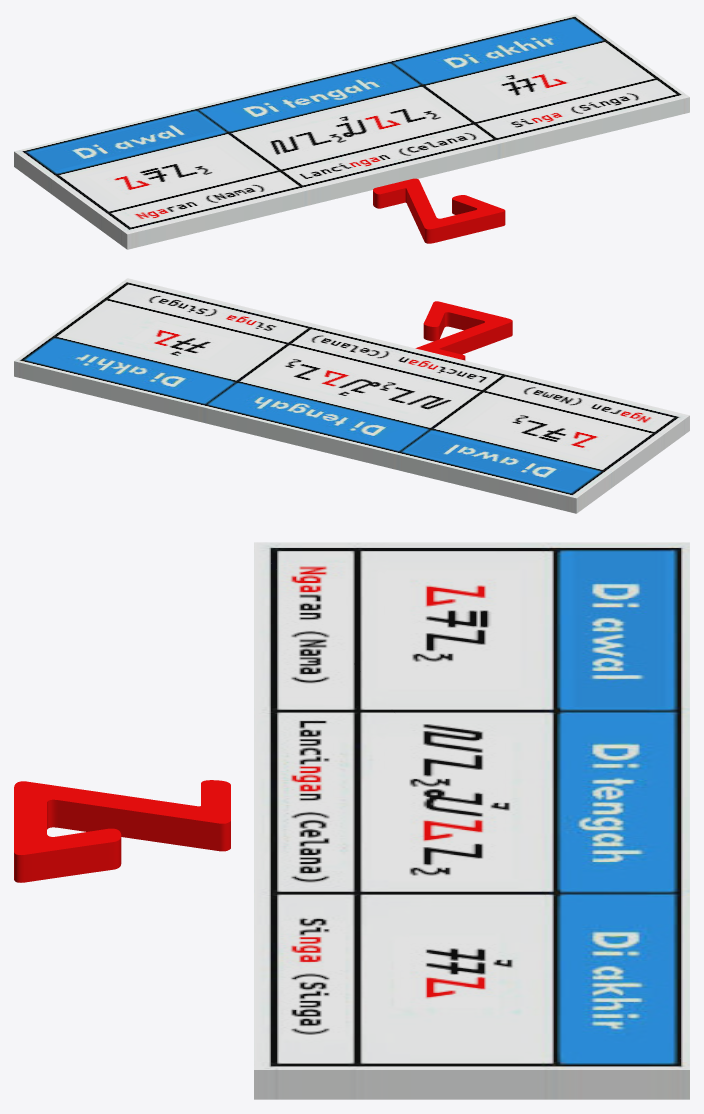
File: nga.fbx
3 renders of one model, top to bottom at view 1: azimuth 30°, elevation 25°; view 2: azimuth 150°, elevation 25°; view 3: azimuth 270°, elevation 25°, orthographic. The views are drawn at different scales.
Parts seen in each view (by area): view 1: contoh-bunyi-huruf-nga-Ngalagena, Text; view 2: contoh-bunyi-huruf-nga-Ngalagena, Text; view 3: contoh-bunyi-huruf-nga-Ngalagena, Text.
Boxes of the visible parts, x1,y1,x2,y2 form: contoh-bunyi-huruf-nga-Ngalagena: [14, 14, 689, 249]; Text: [373, 178, 505, 243]; contoh-bunyi-huruf-nga-Ngalagena: [14, 278, 689, 513]; Text: [415, 301, 512, 360]; contoh-bunyi-huruf-nga-Ngalagena: [254, 542, 689, 1099]; Text: [14, 780, 230, 882].
Bounding box in the file's own units: 2.86 × 0.11 × 1.55.
2 materials, 1 textured.
